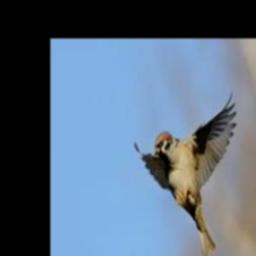Sparrow: (134, 91, 235, 256)
